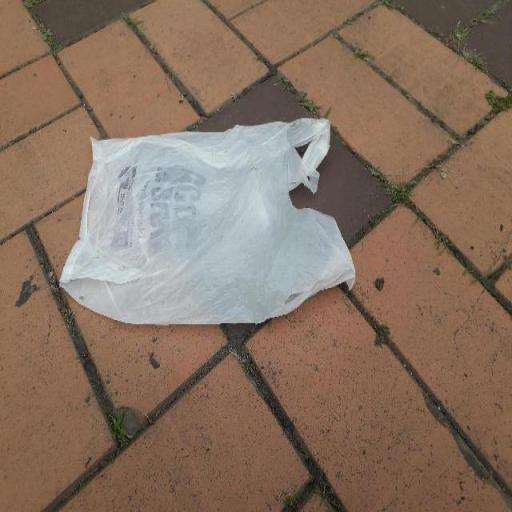plastic-bag: (54, 114, 360, 330)
